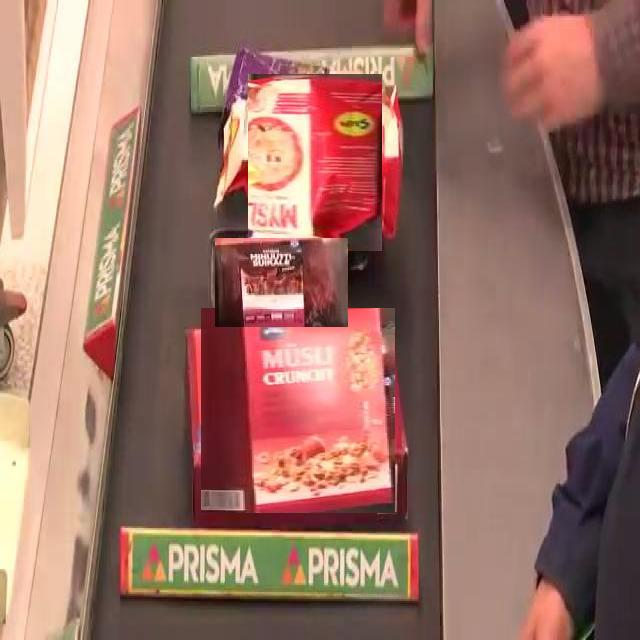food-box: (198, 310, 398, 511), (238, 84, 394, 240), (214, 237, 348, 327)
